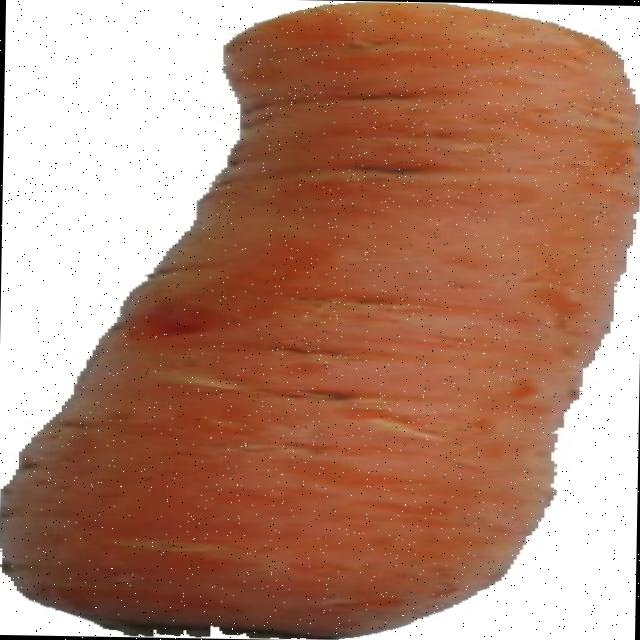carrot: (3, 5, 636, 637)
